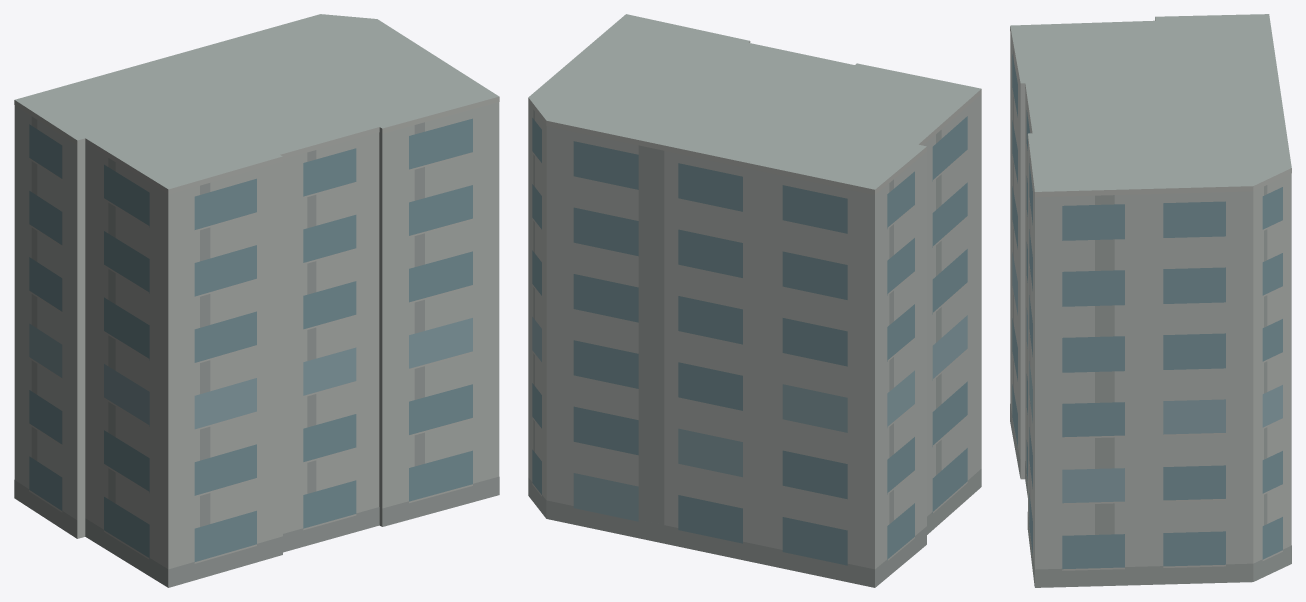
Rendered from survey-upis-32625369.glb.
3 renders of one model, left to right at view 1: azimuth 30°, elevation 25°; view 2: azimuth 150°, elevation 25°; view 3: azimuth 270°, elevation 25°, orthographic.
Parts seen in each view (by area): view 1: survey-upis-32625369.tmp; view 2: survey-upis-32625369.tmp; view 3: survey-upis-32625369.tmp.
Part boxes in pixels (x1,y1,x2,y2): survey-upis-32625369.tmp: [14, 14, 499, 587]; survey-upis-32625369.tmp: [528, 14, 981, 587]; survey-upis-32625369.tmp: [1010, 14, 1291, 587].
Bounding box in the file's own units: 17.65 × 18.3 × 11.81.
